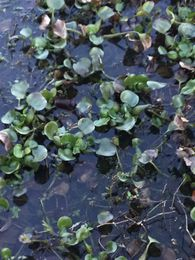water_hyacinth: (2, 66, 154, 185)
